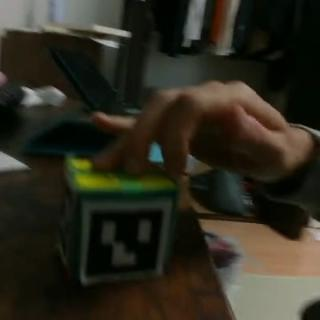armor: (81, 198, 167, 284)
robot: (57, 157, 171, 285)
